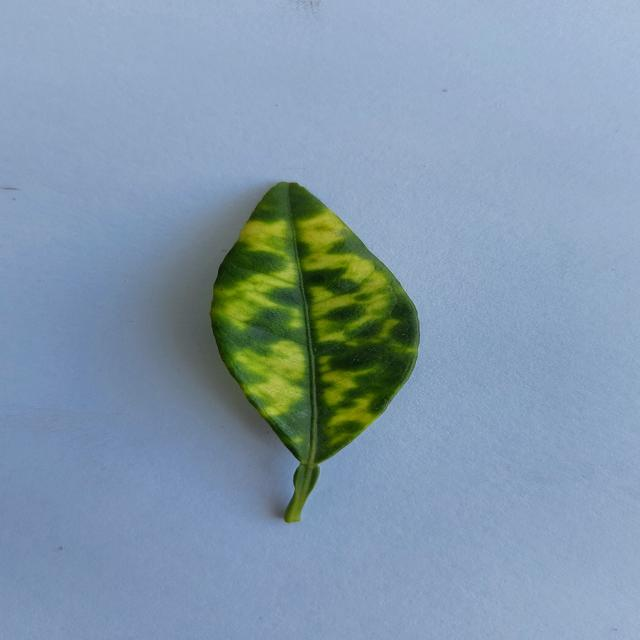greening: (210, 182, 419, 522)
